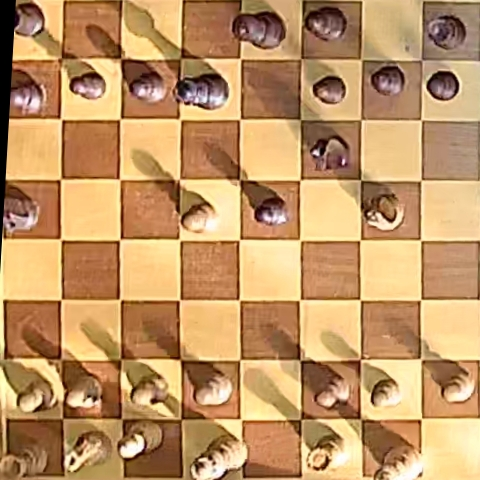black-bishop: (305, 6, 347, 42)
black-king: (232, 11, 285, 49)
black-knight: (4, 196, 40, 234), (310, 136, 350, 170)
black-pawn: (129, 70, 167, 103), (10, 82, 46, 114), (370, 65, 405, 96), (69, 72, 106, 100), (426, 70, 459, 100), (254, 198, 288, 226), (313, 76, 347, 104)
black-queen: (173, 74, 228, 109)
black-rook: (427, 14, 466, 50), (14, 2, 44, 36)
white-bishop: (118, 421, 163, 460)
white-king: (376, 445, 423, 480)
white-knight: (65, 430, 111, 473), (363, 193, 404, 231)
white-pawn: (18, 378, 57, 413), (130, 374, 170, 408), (64, 374, 102, 409), (194, 371, 233, 405), (315, 373, 350, 408), (443, 369, 476, 403), (182, 202, 217, 232), (371, 379, 401, 408)
white-queen: (191, 435, 247, 480)
white-rook: (1, 442, 48, 478), (308, 433, 349, 473)
